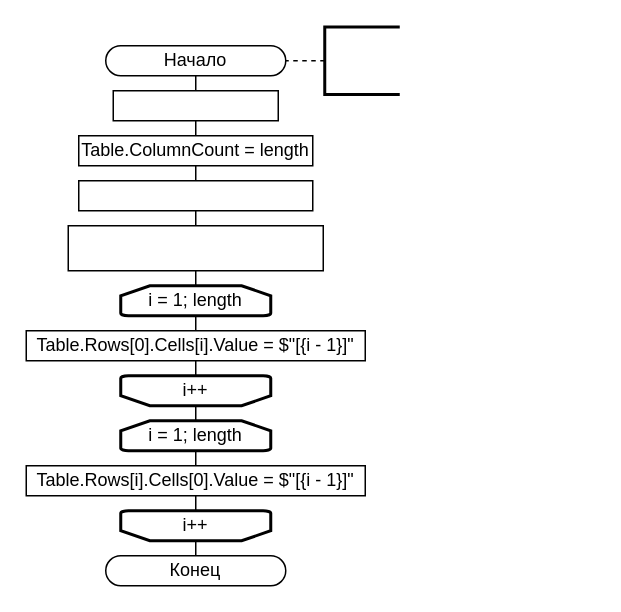
Image size: 621x612. Some labels were removed from this diagram. Here are the shapes that lost their labels. From the top down, the centre of each, then its label:
the point at 361,60: Входные данные: int length, DataGridView Table
the point at 195,105: length += 1
the point at 195,195: Table.RowCount = length;
the point at 195,247: Table.Rows[0].Cells[0].Value = $"[{length - 1}][{length - 1}]"
